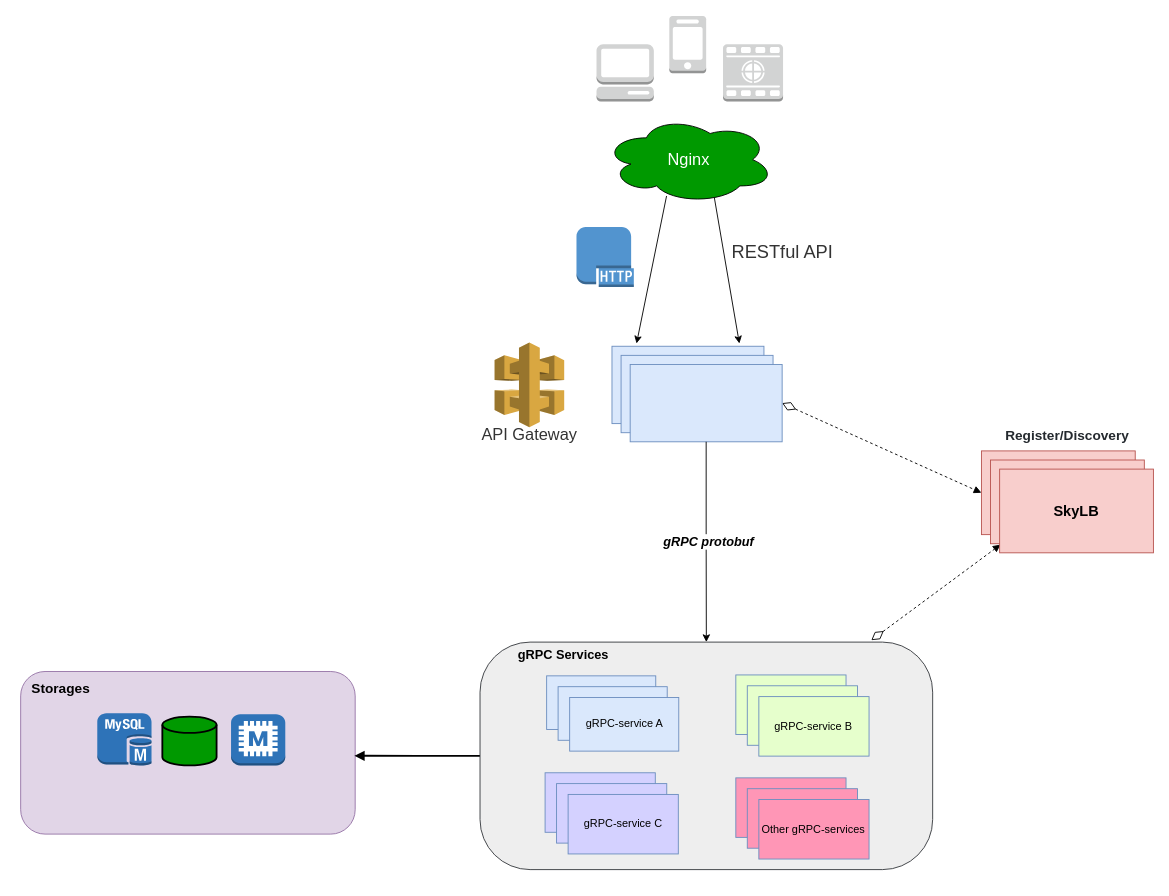
Image size: 1169x896. Some labels were removed from this diagram. The box of each missing label's shape, as (x1, y1, x2, y2) in pixels:
Ease-Gateway: (629, 364, 782, 442)
HTTP/1.1: (576, 226, 634, 287)
MongoDB: (161, 715, 217, 766)
